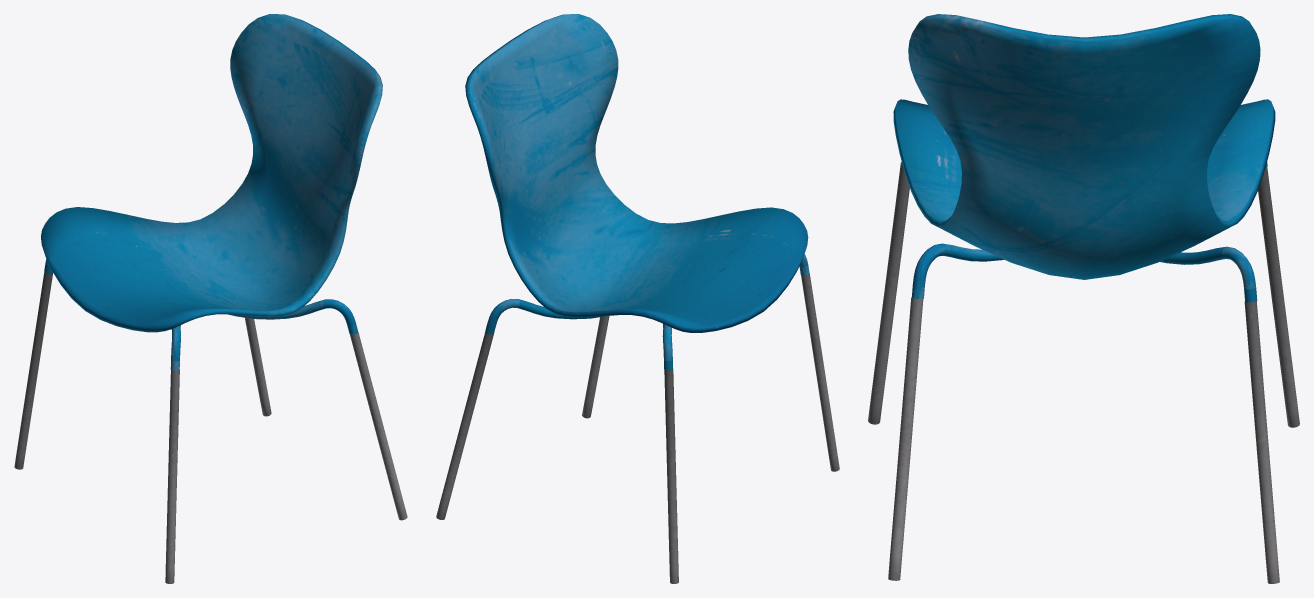
The model's file is silla2mov.obj.
3 views of the same model, side by side, from view 1: azimuth 30°, elevation 25°; view 2: azimuth 150°, elevation 25°; view 3: azimuth 270°, elevation 25° (orthographic). The views are drawn at different scales.
Parts seen in each view (by area): view 1: polySurface512; view 2: polySurface512; view 3: polySurface512.
Part boxes in pixels (x1,y1,x2,y2): polySurface512: (14,14,407,583); polySurface512: (436,14,839,583); polySurface512: (868,14,1299,583).
Size of the model in its own units: 0.3842 by 0.5708 by 0.3959.
Materials: 2 (2 with a texture image).
